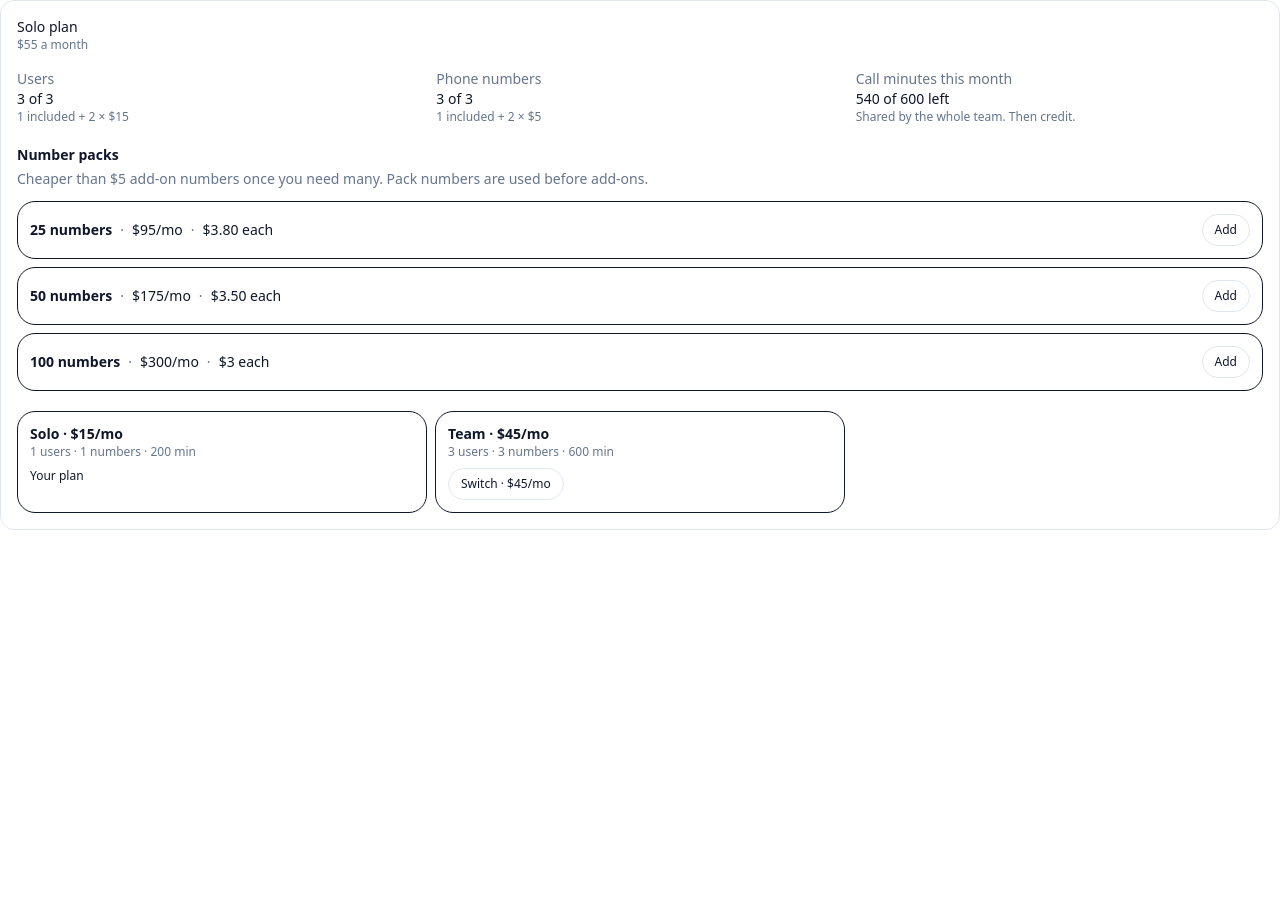
it: NumberPacks › shows a positive quote as money added per month
The width and height of the screenshot is (1280, 900).
Click the button with aria-label "Add 25-number pack" at point(1226, 230), box [1202,214,1250,246]
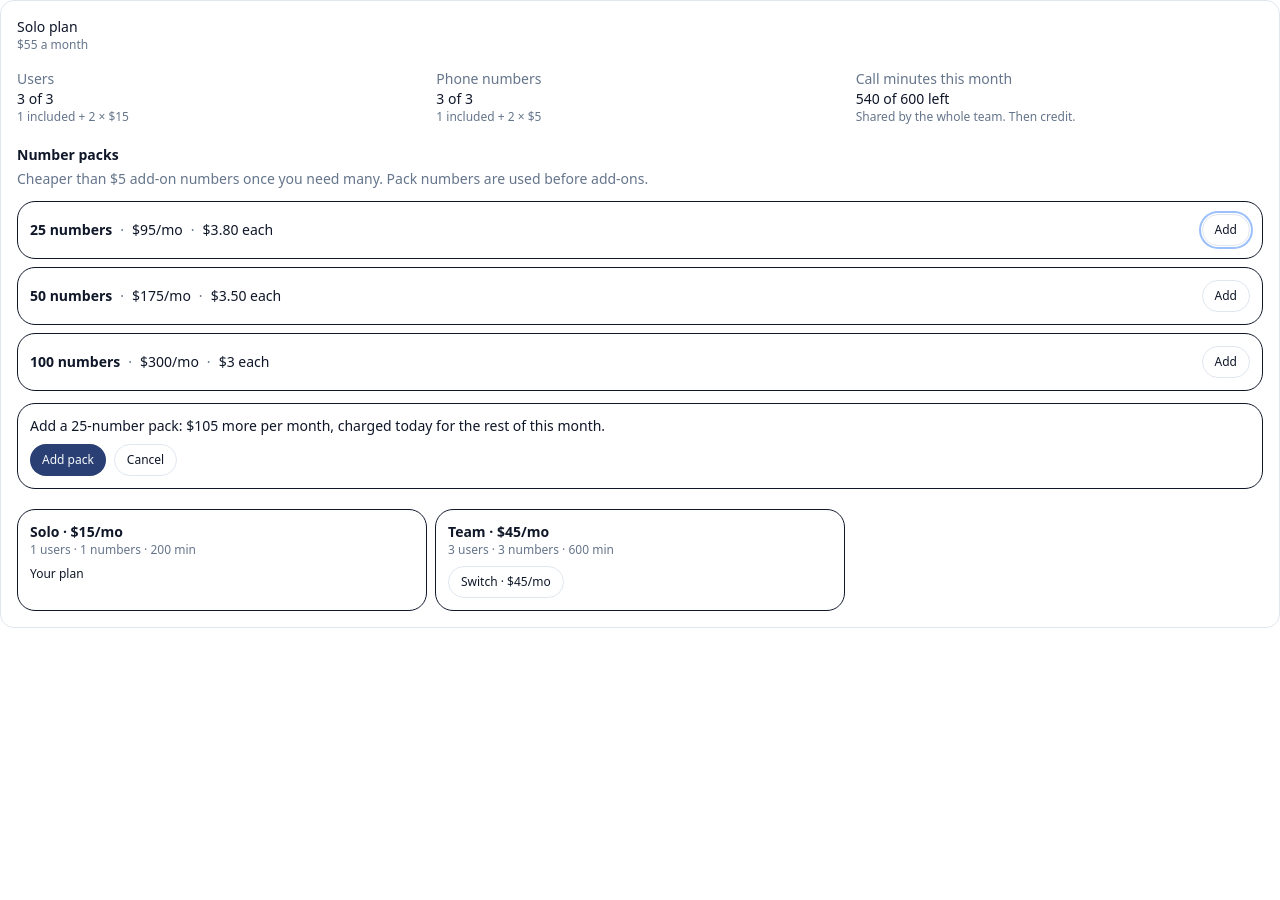
Result: the element named "Confirm number pack" shows "$105 more per month" at [30,416,605,435]
